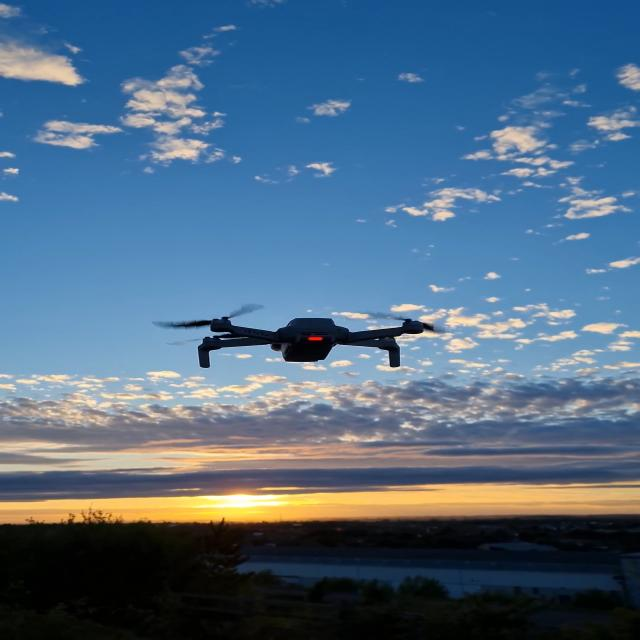Drone: (155, 295, 463, 381)
